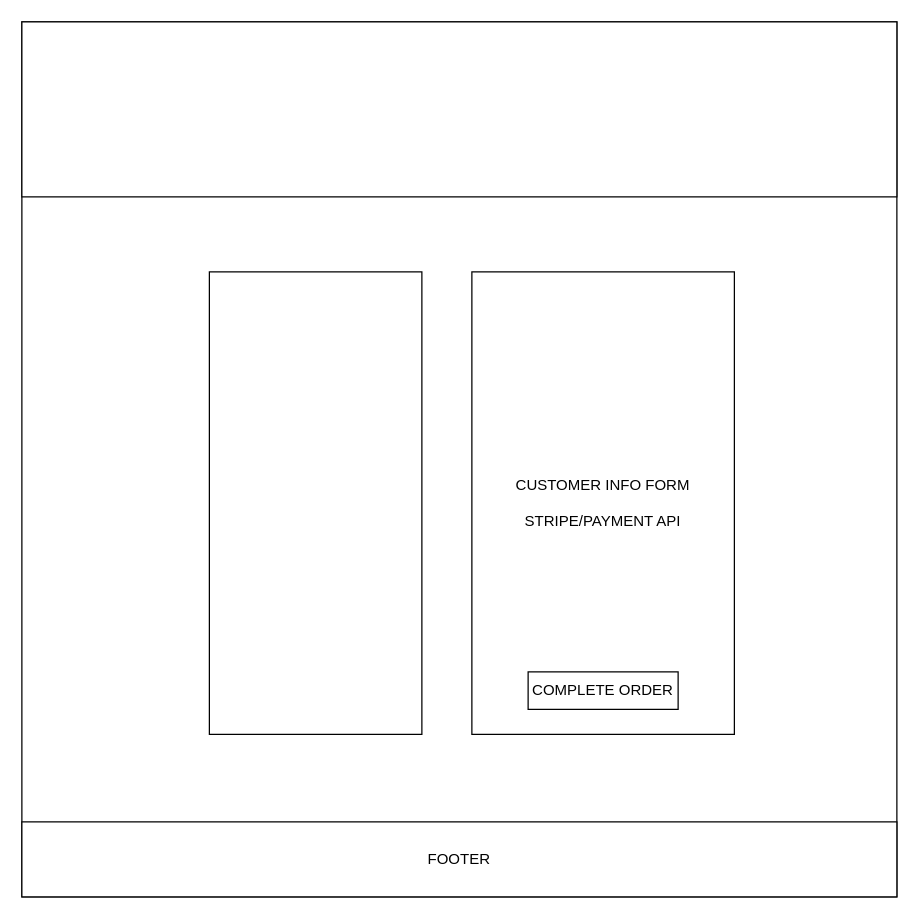
Image size: 919x919. Some labels were removed from this diagram. Each missing label, with the centre of its shape:
"ORDER SUMMARY" goes at [315,502].
"SITE TITLE" goes at [459,109].
